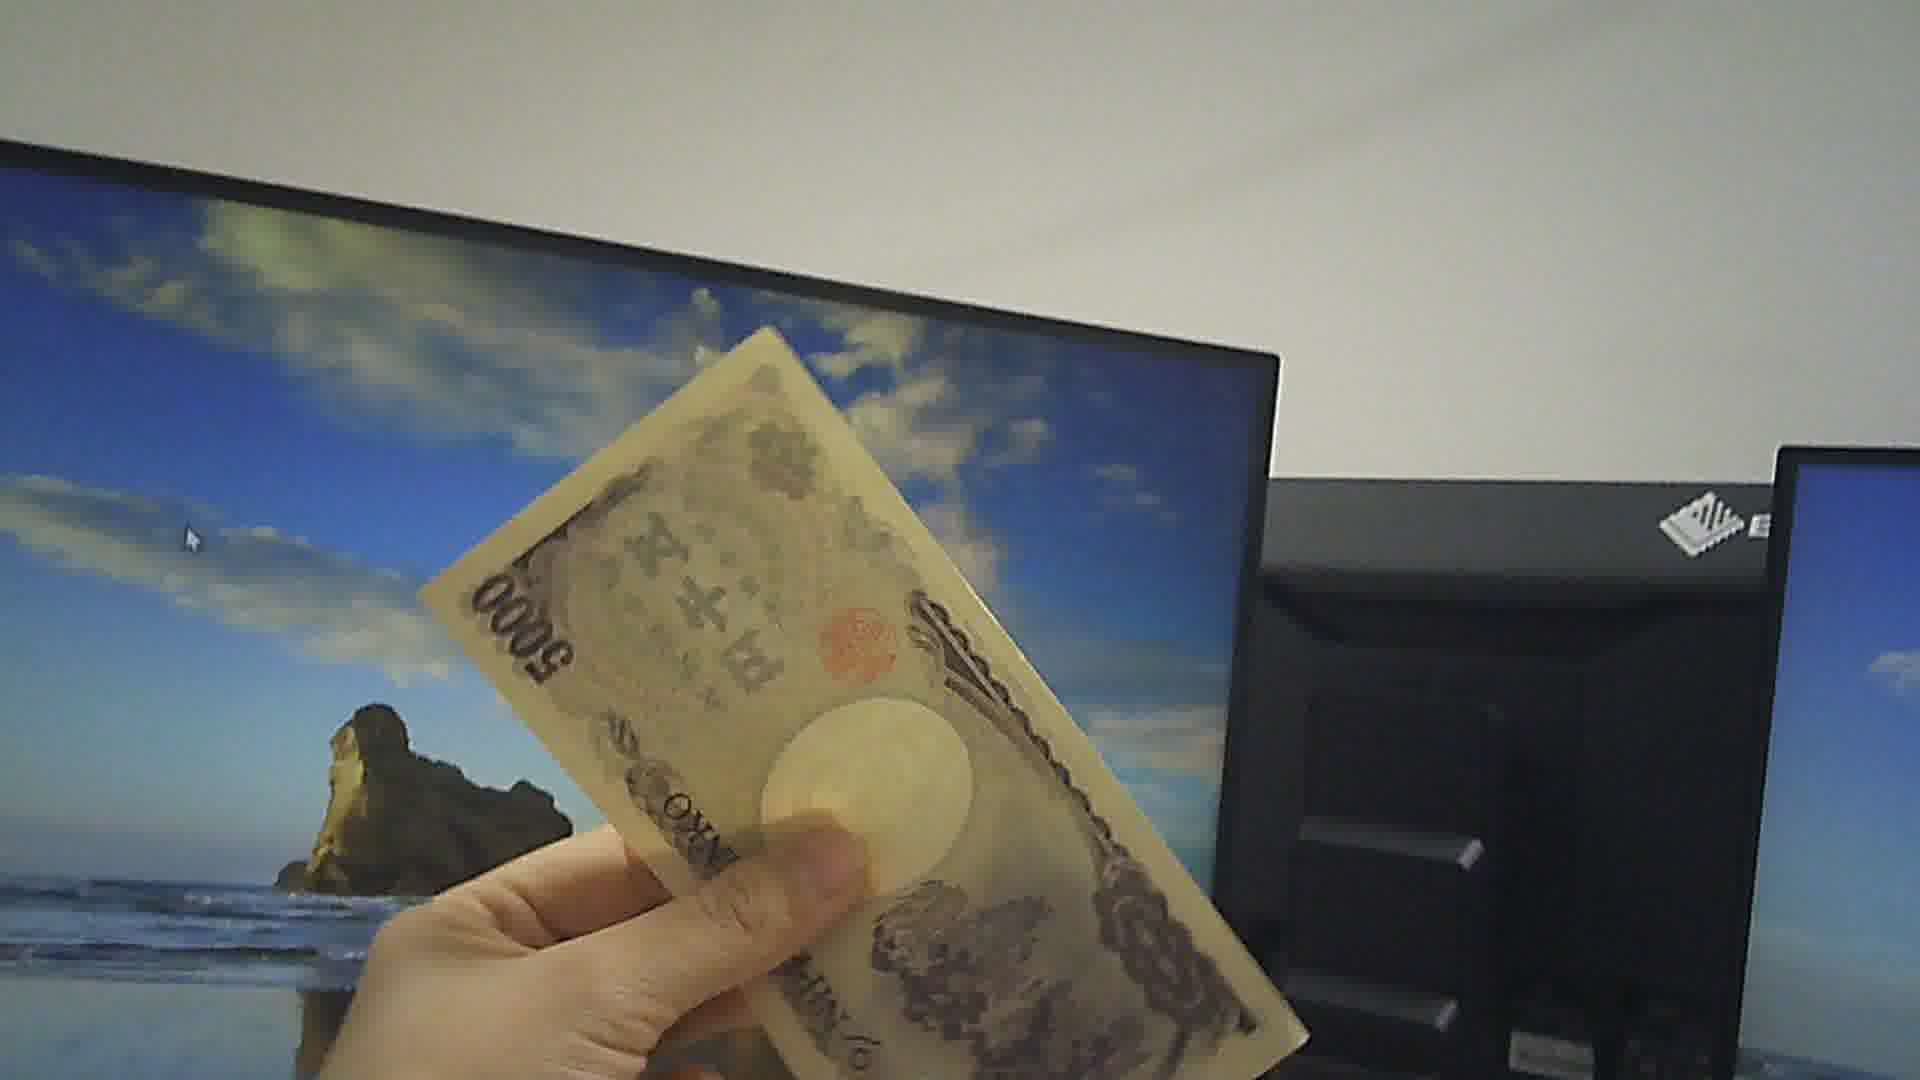5,000 Yen: (415, 355, 1283, 1079)
